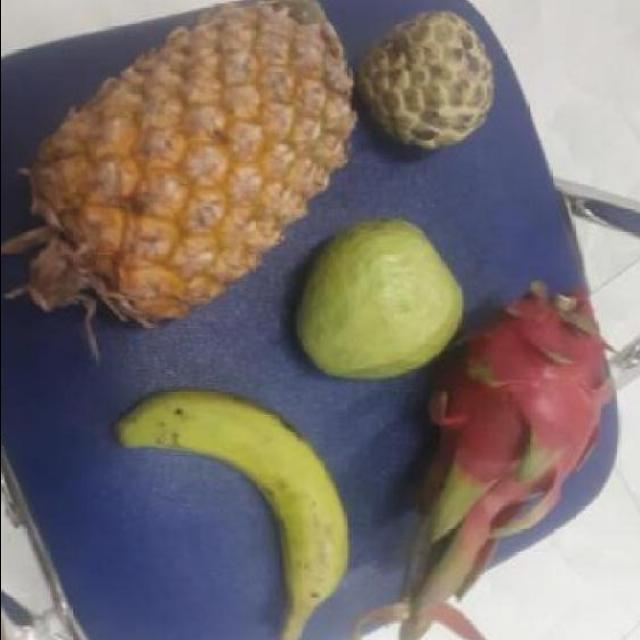banana: (130, 392, 347, 640)
dragon fruit: (423, 294, 616, 516)
guava: (297, 217, 461, 384)
pineapple: (36, 9, 344, 333)
sugar apple: (356, 9, 492, 159)
